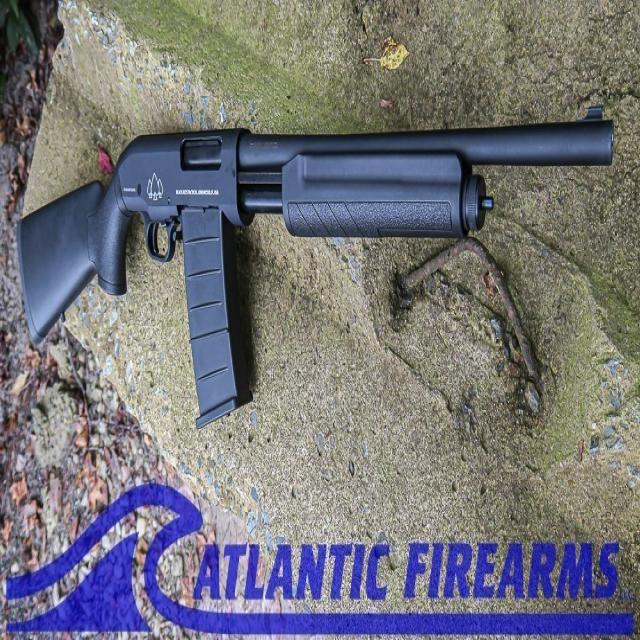ShotGun: (17, 120, 616, 344)
